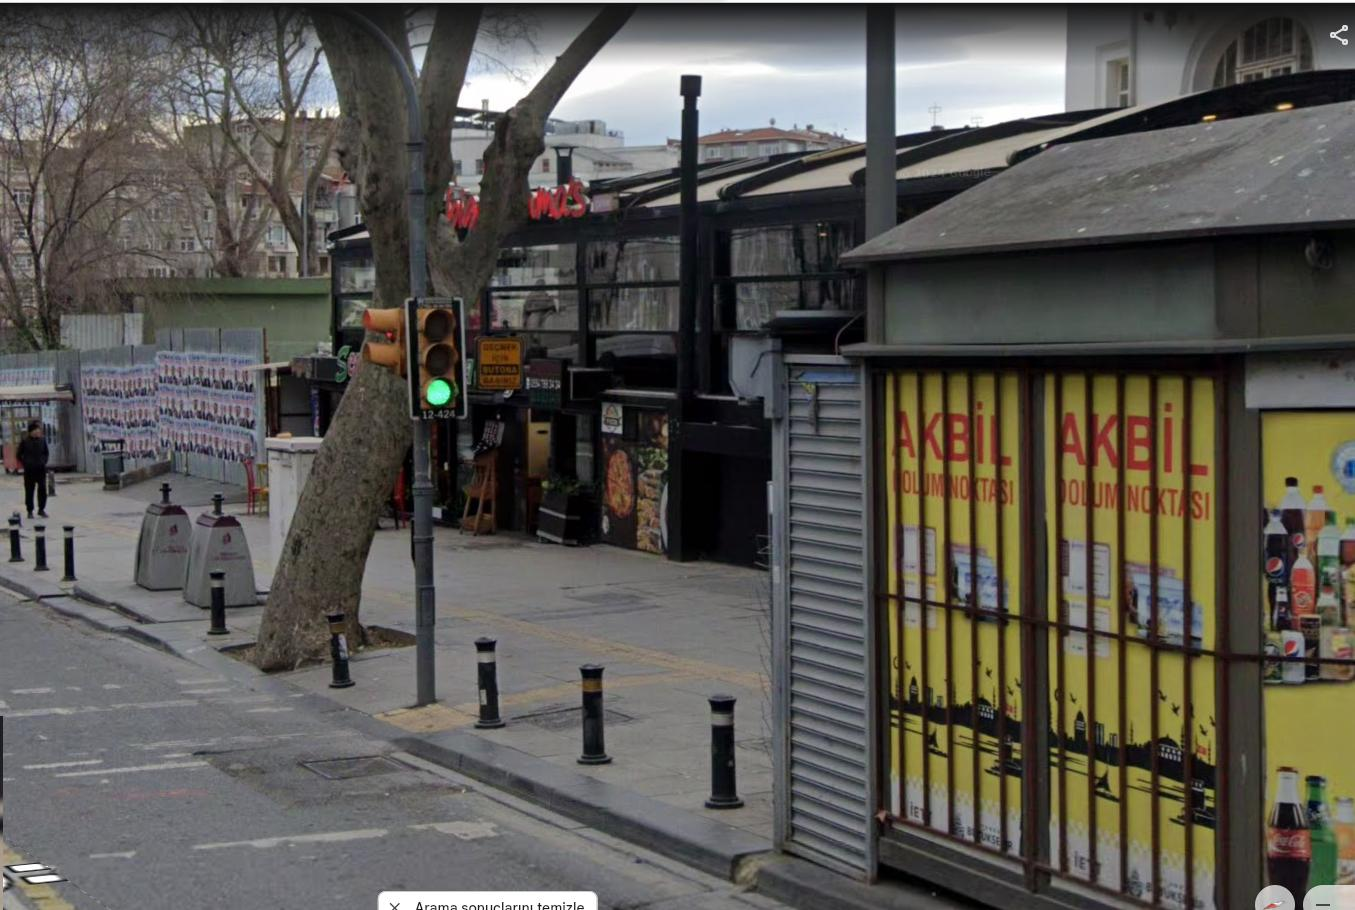greenlight: (416, 303, 459, 405)
